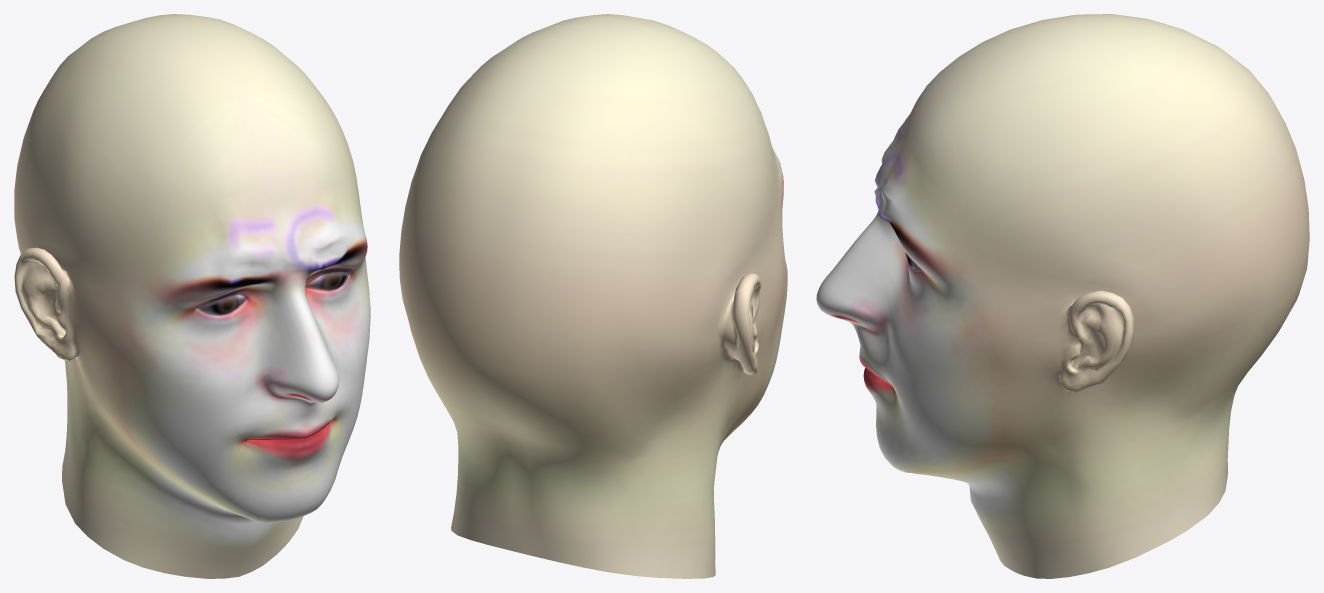
Rendered from random_anyrace_anysex_18.obj.
3 views of the same model, side by side, from view 1: azimuth 30°, elevation 25°; view 2: azimuth 150°, elevation 25°; view 3: azimuth 270°, elevation 25° (orthographic). The views are drawn at different scales.
Visible parts, largest first — view 1: HeadHires; view 2: HeadHires; view 3: HeadHires.
Part boxes in pixels (left/top/right/bottom): HeadHires: left=14, top=14, right=370, bottom=578; HeadHires: left=399, top=14, right=787, bottom=578; HeadHires: left=816, top=14, right=1309, bottom=578.
Size of the model in its own units: 188 by 283 by 241.
3 materials, 3 textured.
